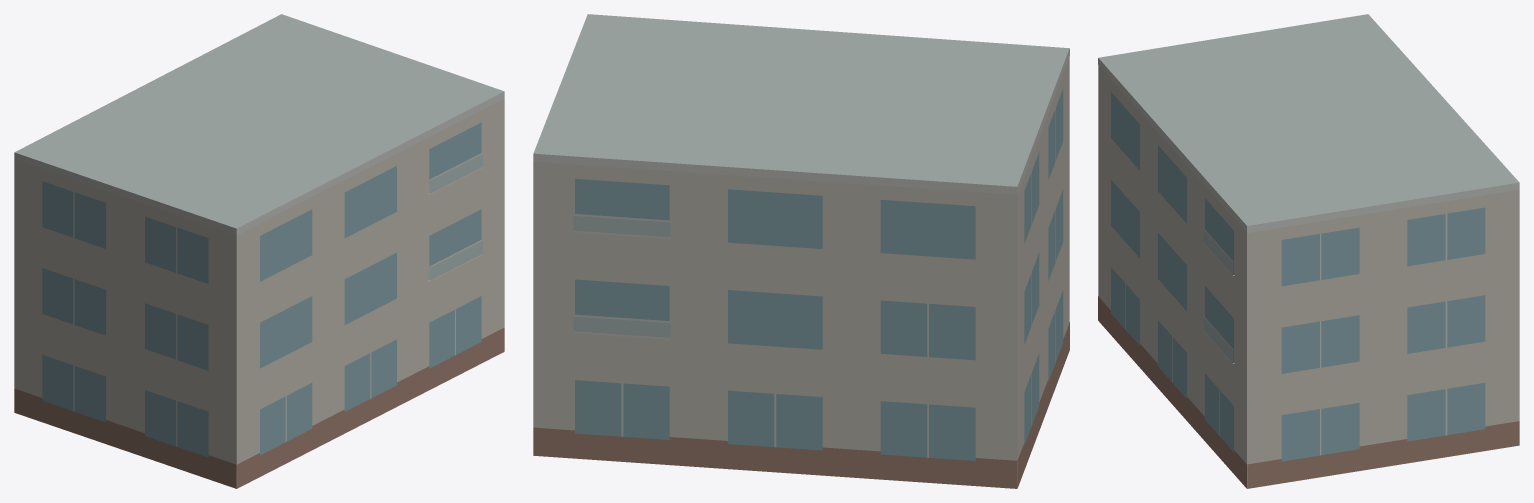
File: survey-upis-32702052.glb
3 views of the same model, side by side, from view 1: azimuth 30°, elevation 25°; view 2: azimuth 150°, elevation 25°; view 3: azimuth 270°, elevation 25° (orthographic). The views are drawn at different scales.
Parts seen in each view (by area): view 1: survey-upis-32702052.tmp; view 2: survey-upis-32702052.tmp; view 3: survey-upis-32702052.tmp.
Part boxes in pixels (x1,y1,x2,y2): survey-upis-32702052.tmp: (14,14,504,488); survey-upis-32702052.tmp: (533,14,1069,488); survey-upis-32702052.tmp: (1098,14,1519,488).
Size of the model in its own units: 15.84 by 9.15 by 13.31.
